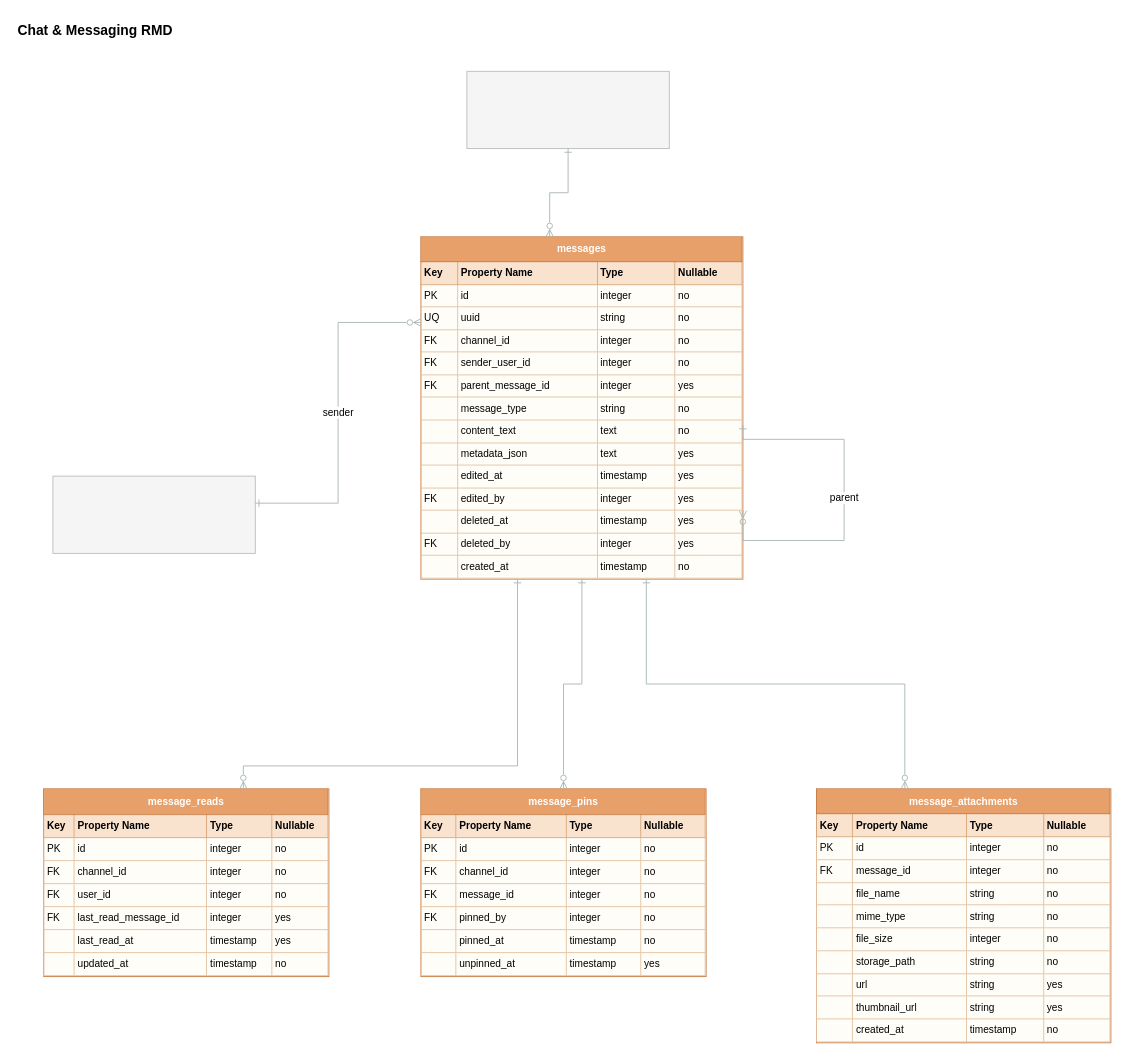
Some shapes in this 1127 by 1059 pixel diagram are drawn without their labels. Here are the shapes that lost their labels. From the top down, the box of each, then its label:
(466, 70, 669, 149): channels Key Property Name Type Nullable PK id integer no
(52, 475, 255, 553): users Key Property Name Type Nullable PK id integer no
